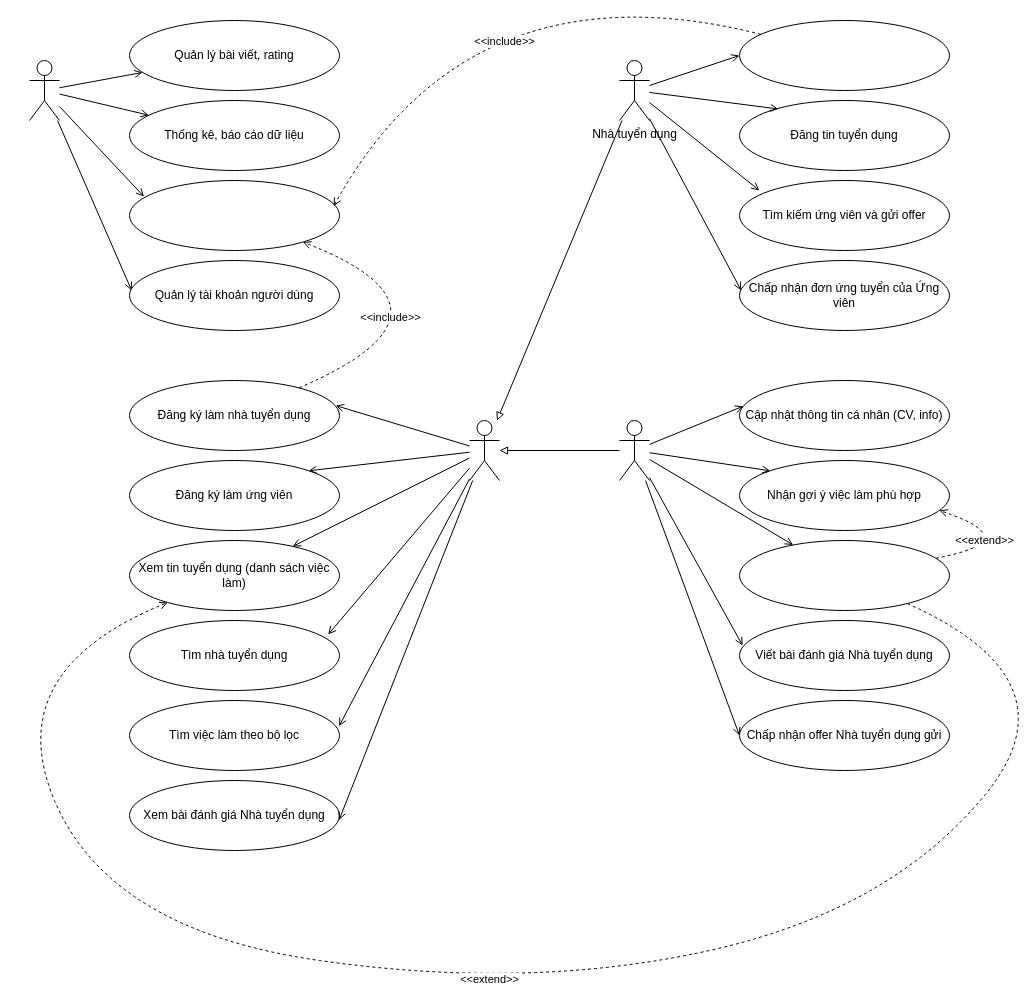
Image size: 1036x1003. Some labels were removed from this diagram. Each missing label, with the centre of its shape:
"Cập nhật thông tin" belongs at pixel 844 55.
"Duyệt thông tin, chấp nhận thay đổi" belongs at pixel 234 215.
"Khách" belongs at pixel 484 450.
"Nộp đơn ứng tuyển" belongs at pixel 844 575.
"SysAdmin" belongs at pixel 44 90.
"Ứng viên" belongs at pixel 634 450.
